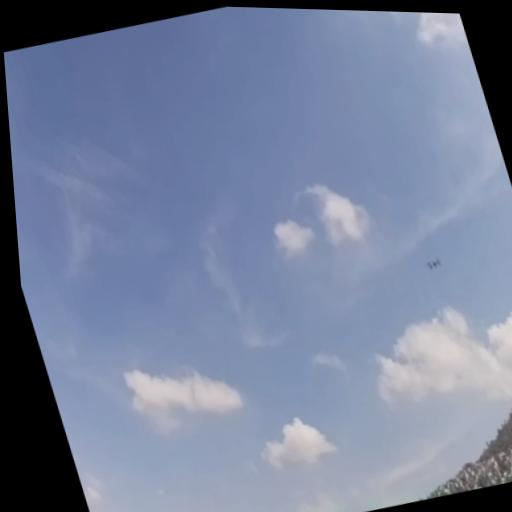drones: (420, 246, 446, 277)
